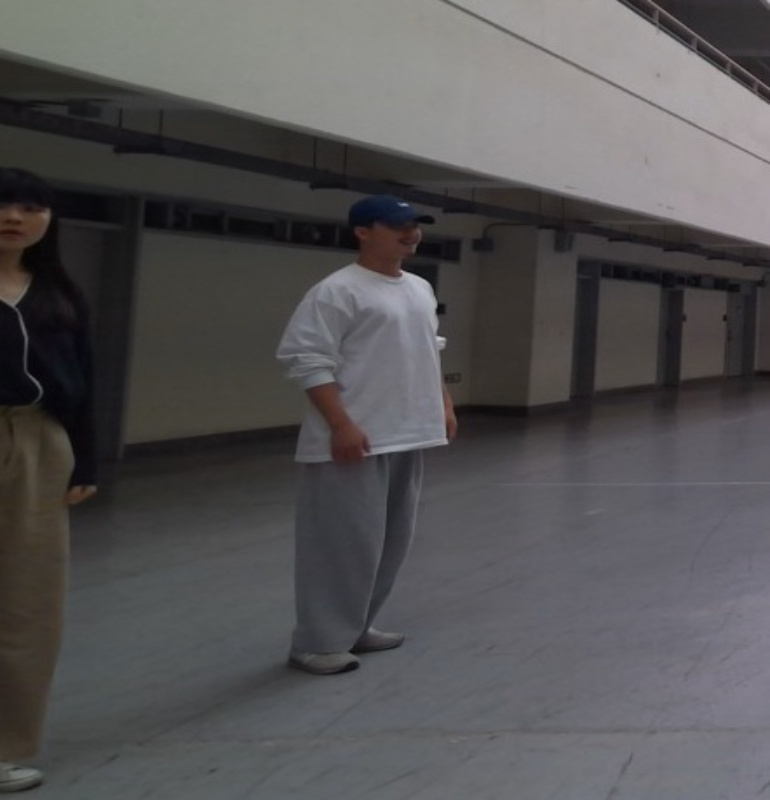person: (273, 193, 461, 679)
